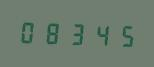eight: (41, 18, 63, 46)
five: (110, 21, 132, 48)
four: (87, 20, 109, 48)
three: (64, 19, 86, 47)
zero: (18, 17, 40, 45)
